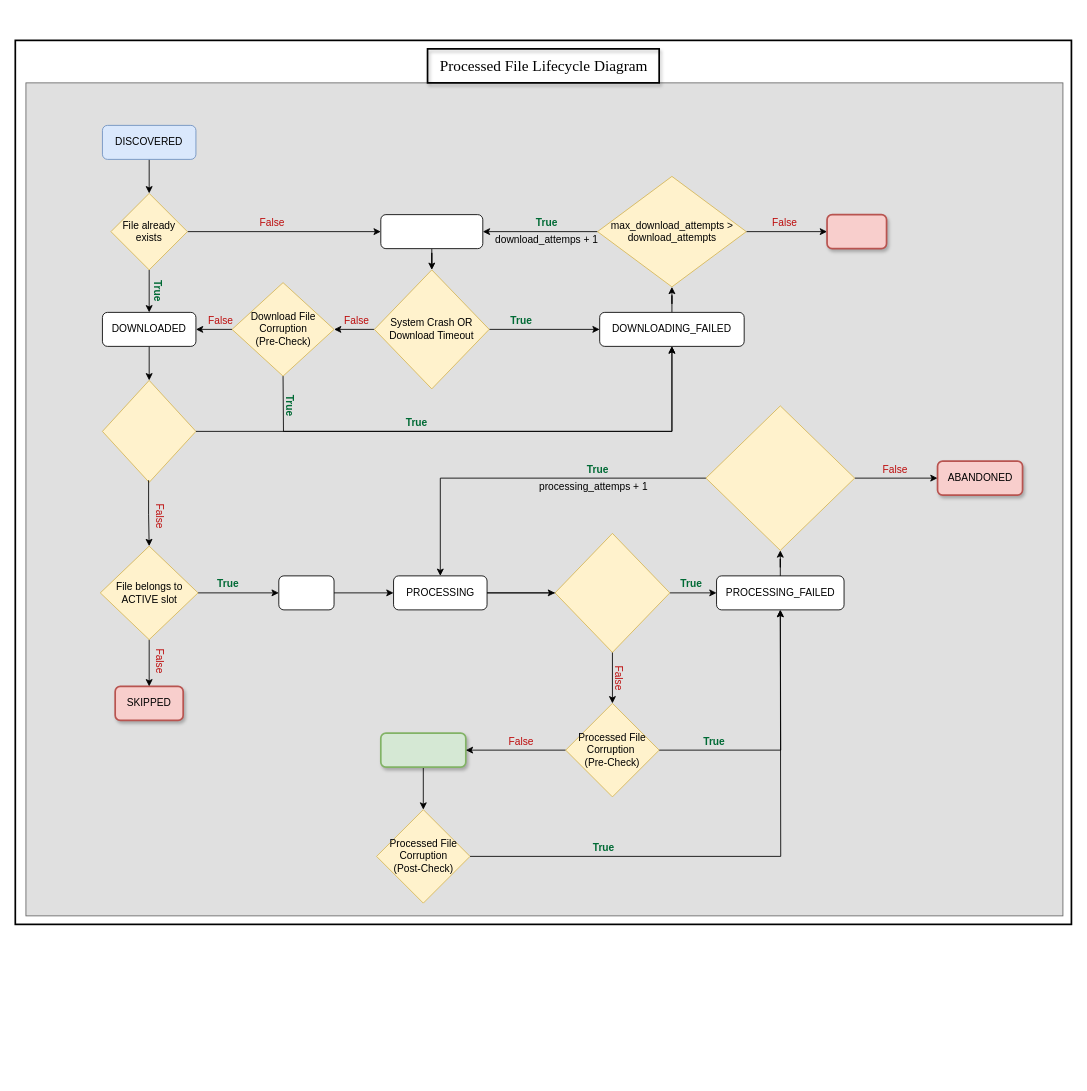
Some shapes in this 1087 by 1091 pixel diagram are drawn without their labels. The shapes that lost their labels are listed below. From the top down, each one's centre as x and y in pixels, then its label:
At pixel 431 231: "DOWNLOADING".
At pixel 857 232: "IGNORE".
At pixel 149 431: "Download File Corruption (Post-Check)".
At pixel 780 477: "max_processing_attempts > processing_attempts".
At pixel 306 592: "READY".
At pixel 612 592: "System Crash OR Processing Timeout".
At pixel 423 751: "PROCESSED".
